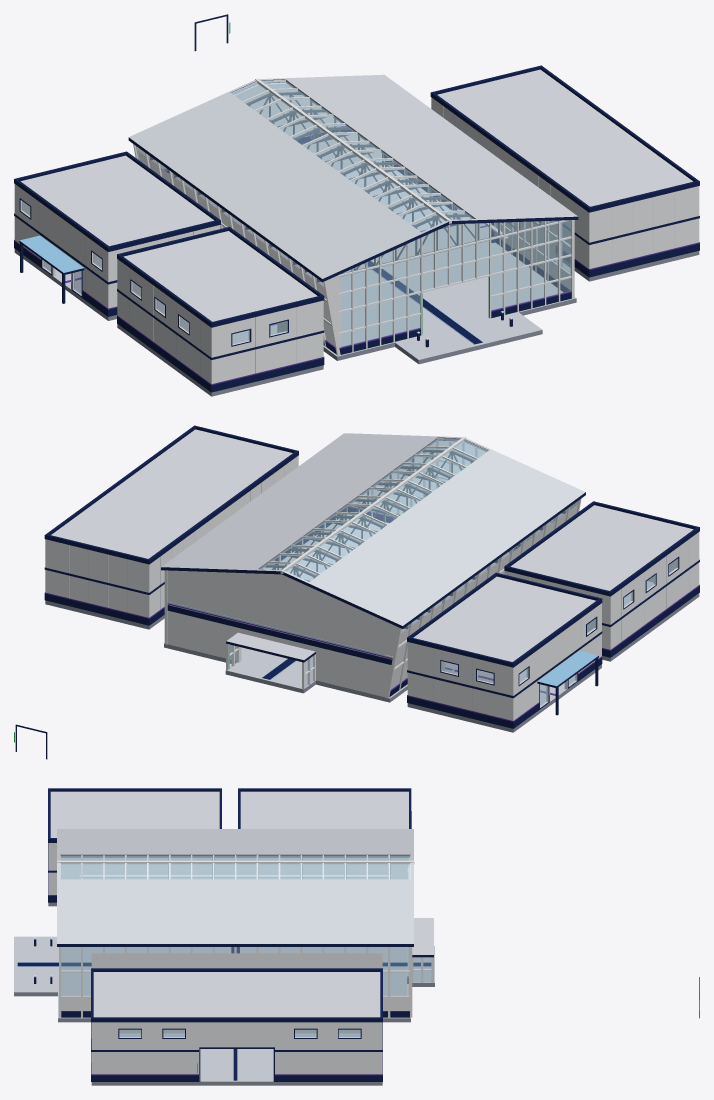
File: LLASO_Facility.obj
The picture shows the model from 3 angles, top to bottom: view 1: azimuth 30°, elevation 25°; view 2: azimuth 150°, elevation 25°; view 3: azimuth 270°, elevation 25°; orthographic projection. The views are drawn at different scales.
Visible parts, largest first — view 1: LLASO_Facility, LLASO_Room_RobotHangar, LLASO_Room_IDK, LLASO_Room_EntranceLobby; view 2: LLASO_Facility, LLASO_Room_RobotHangar, LLASO_Room_EntranceLobby, LLASO_Room_IDK; view 3: LLASO_Facility, LLASO_Room_RobotHangar, LLASO_Room_IDK, LLASO_Room_EntranceLobby.
Boxes of the visible parts, left/top/right/bottom form: LLASO_Facility: left=128, top=74, right=578, bottom=364; LLASO_Room_RobotHangar: left=430, top=65, right=699, bottom=281; LLASO_Room_IDK: left=117, top=226, right=324, bottom=396; LLASO_Room_EntranceLobby: left=14, top=14, right=230, bottom=320; LLASO_Facility: left=161, top=433, right=585, bottom=702; LLASO_Room_RobotHangar: left=44, top=425, right=298, bottom=629; LLASO_Room_EntranceLobby: left=14, top=572, right=602, bottom=759; LLASO_Room_IDK: left=504, top=501, right=699, bottom=661; LLASO_Facility: left=14, top=829, right=434, bottom=1022; LLASO_Room_RobotHangar: left=91, top=968, right=382, bottom=1085; LLASO_Room_IDK: left=48, top=788, right=221, bottom=906; LLASO_Room_EntranceLobby: left=238, top=788, right=699, bottom=1018.
Bounding box in the file's own units: 77.4 × 15.7 × 93.8.
